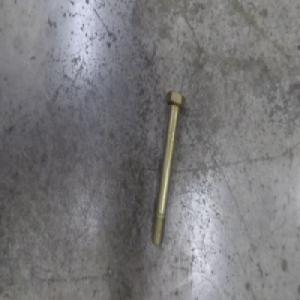Bolt: (150, 88, 186, 248)
